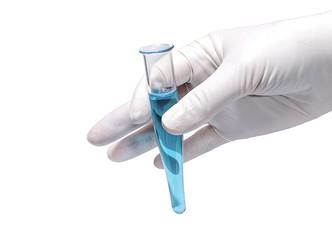Test tube: (119, 32, 193, 220)
